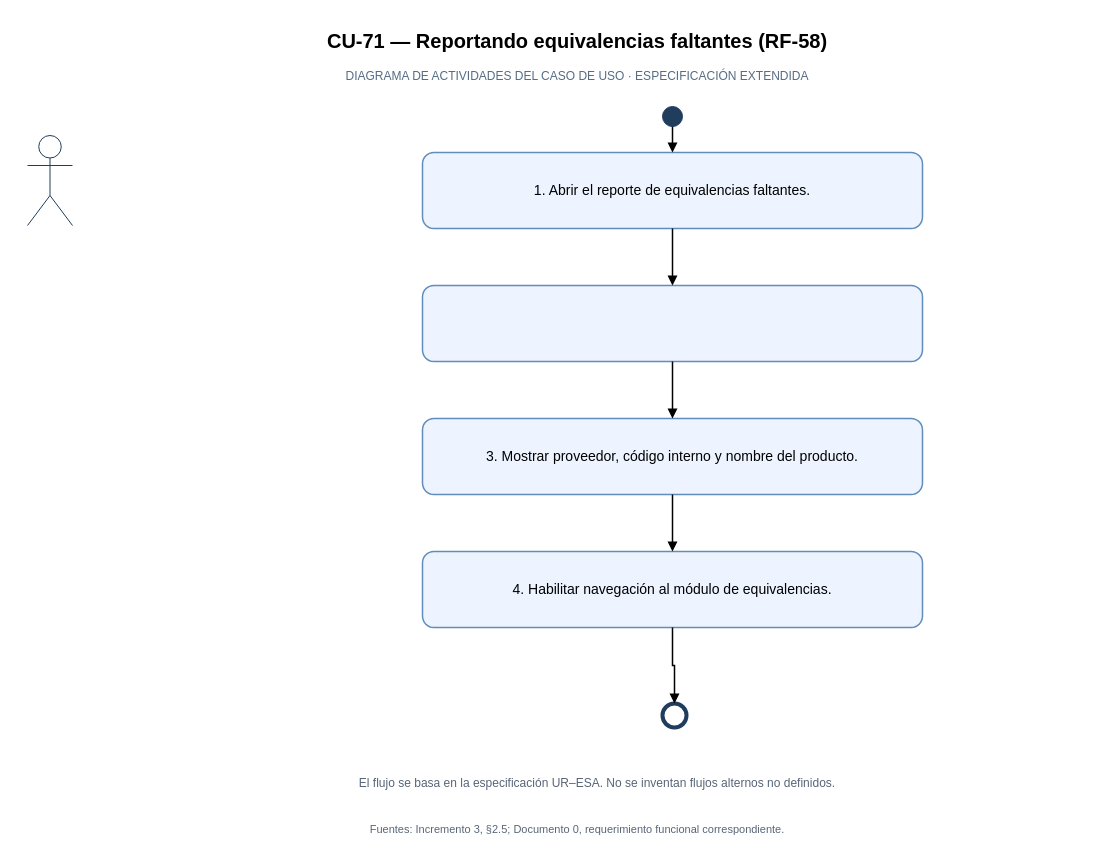
This 1115x858 diagram has some shape labels left out. Here are the shapes that lost their labels. From the top down, the centre of each, then its label:
At point 49,180: "Usuario autorizado".
At point 672,323: "2. Consultar códigos internos sin equivalencia SKU.".
